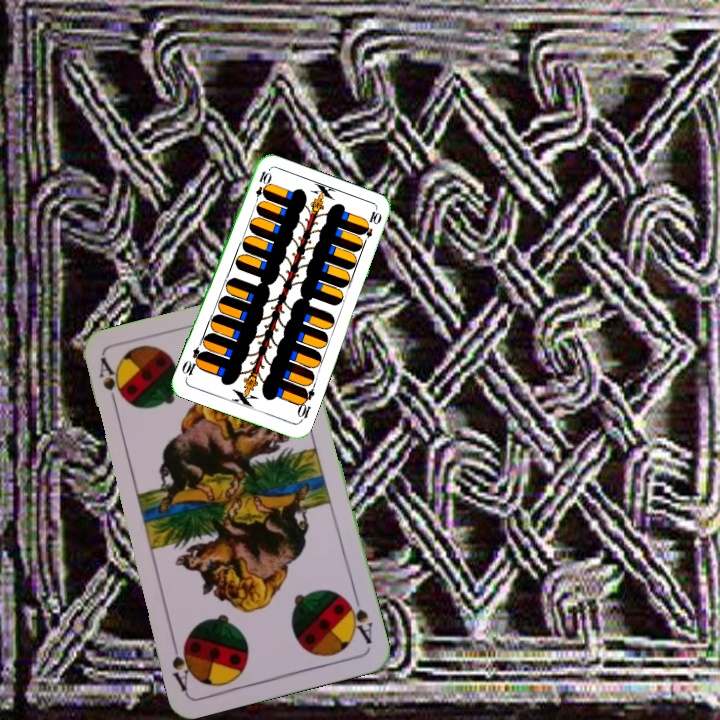E10: (293, 384, 317, 424), (251, 167, 272, 207)
SA: (340, 589, 376, 647), (94, 354, 126, 413)
